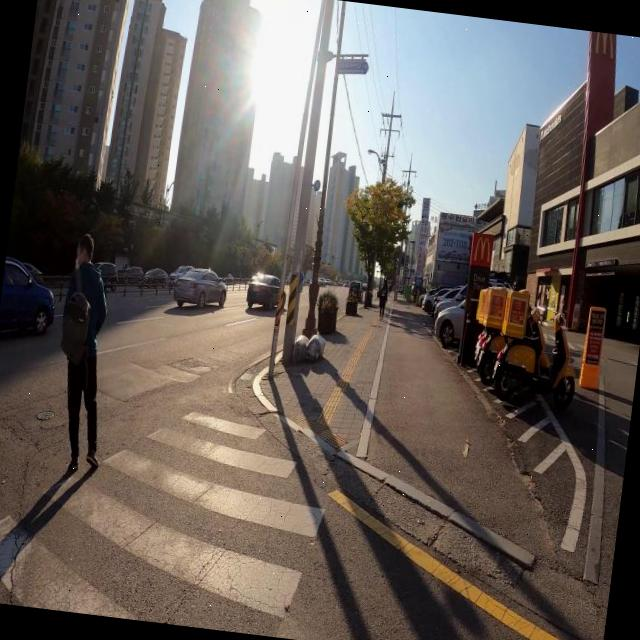crosswalk: (0, 410, 324, 635)
